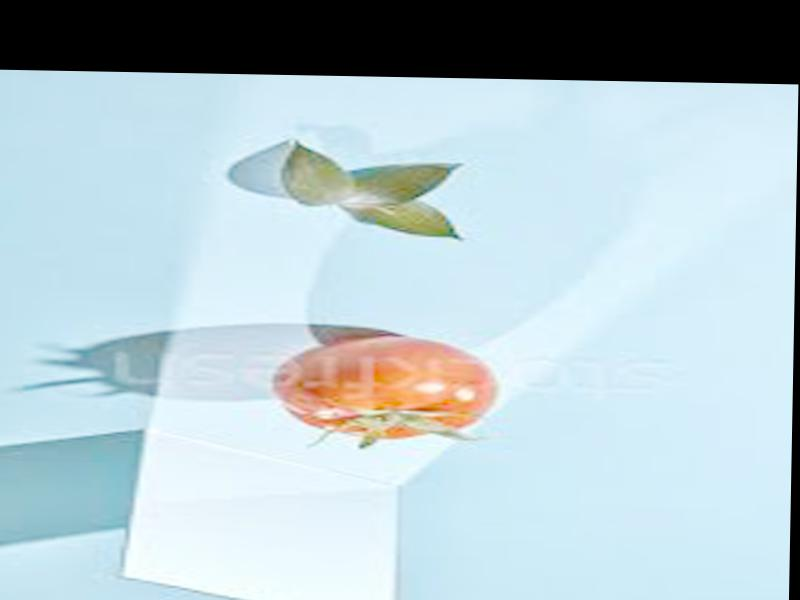Tomato: (271, 333, 504, 442)
